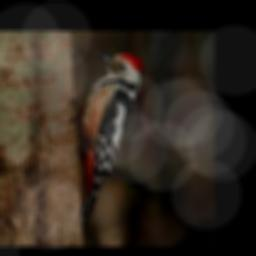Woodpecker: (70, 52, 143, 233)
